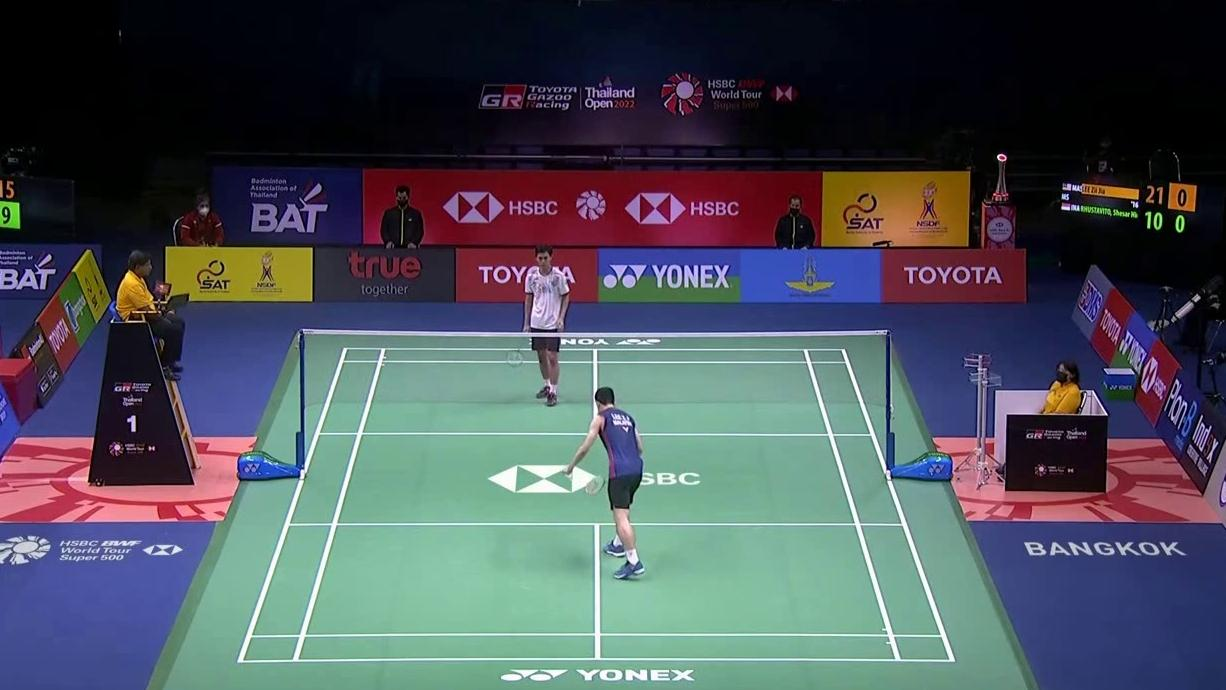racket: (506, 326, 531, 367), (585, 475, 630, 495)
shuttle: (562, 465, 573, 478)
